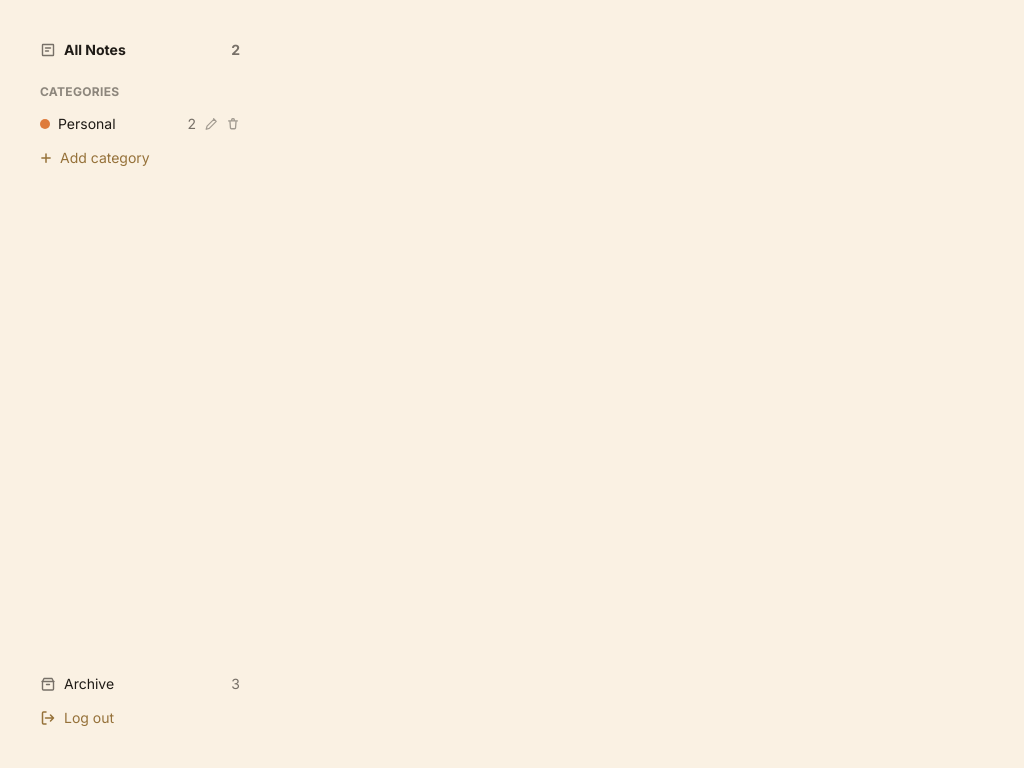
Test case: Sidebar › deleting a category › deletes the category and refreshes when confirmed
Click the button named "Delete Personal" at x=233, y=124, box [226,117,240,131]
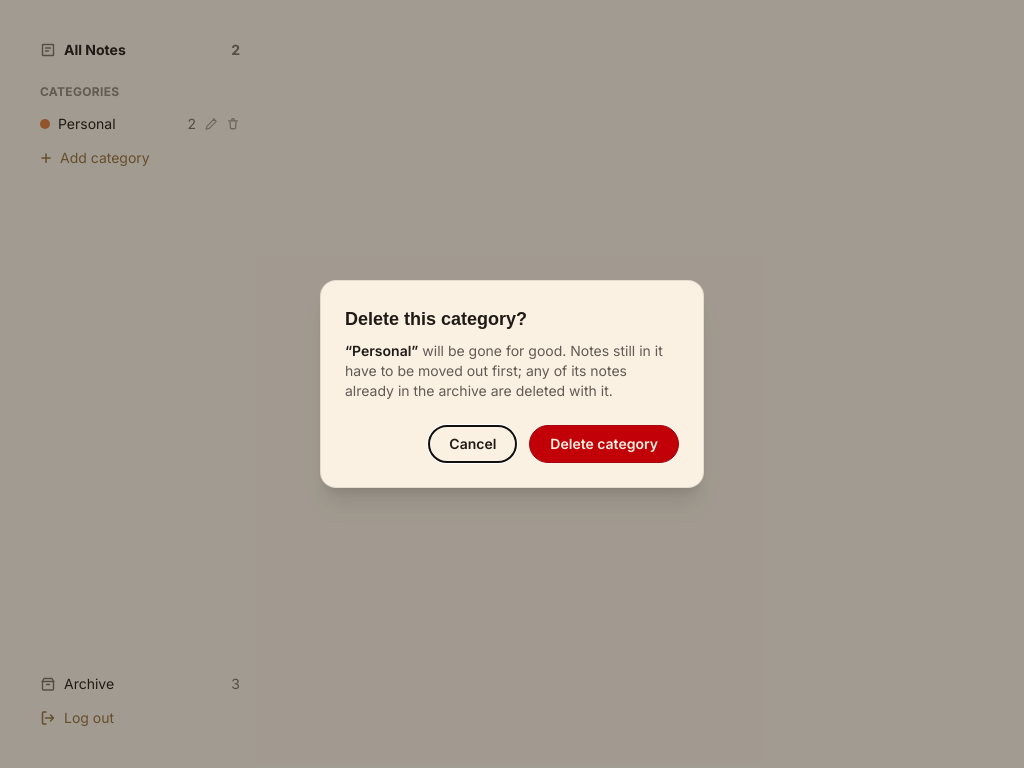
Click the button "Delete category" at x=604, y=444, box [529,425,679,463]
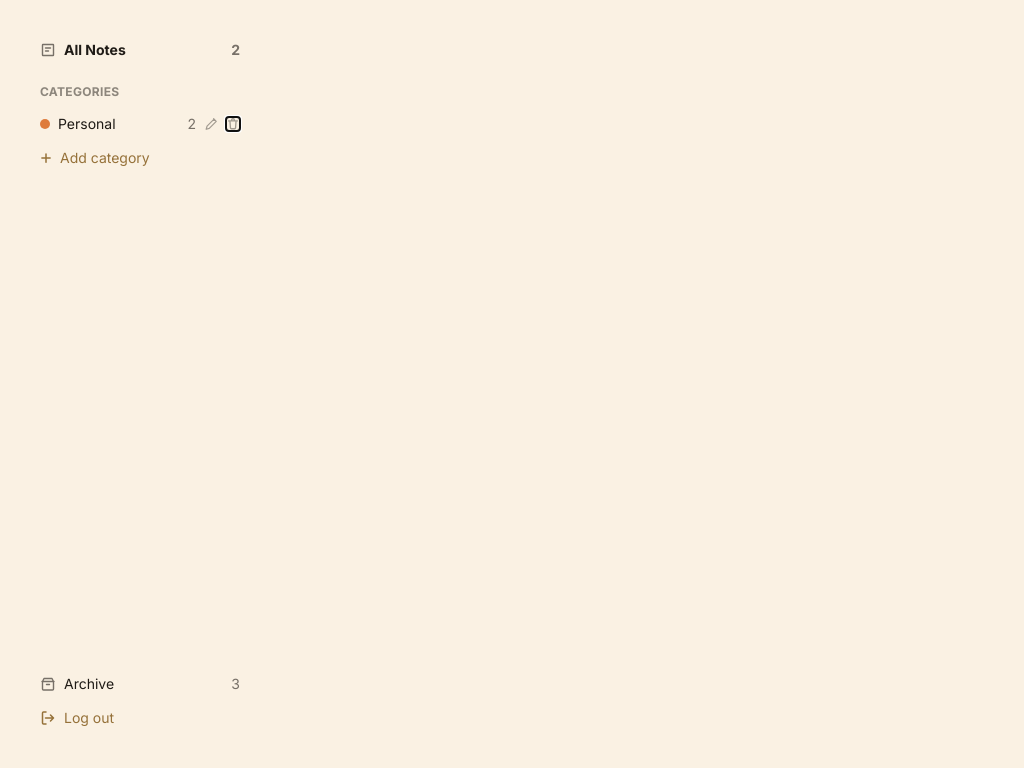
Now the dialog is gone
